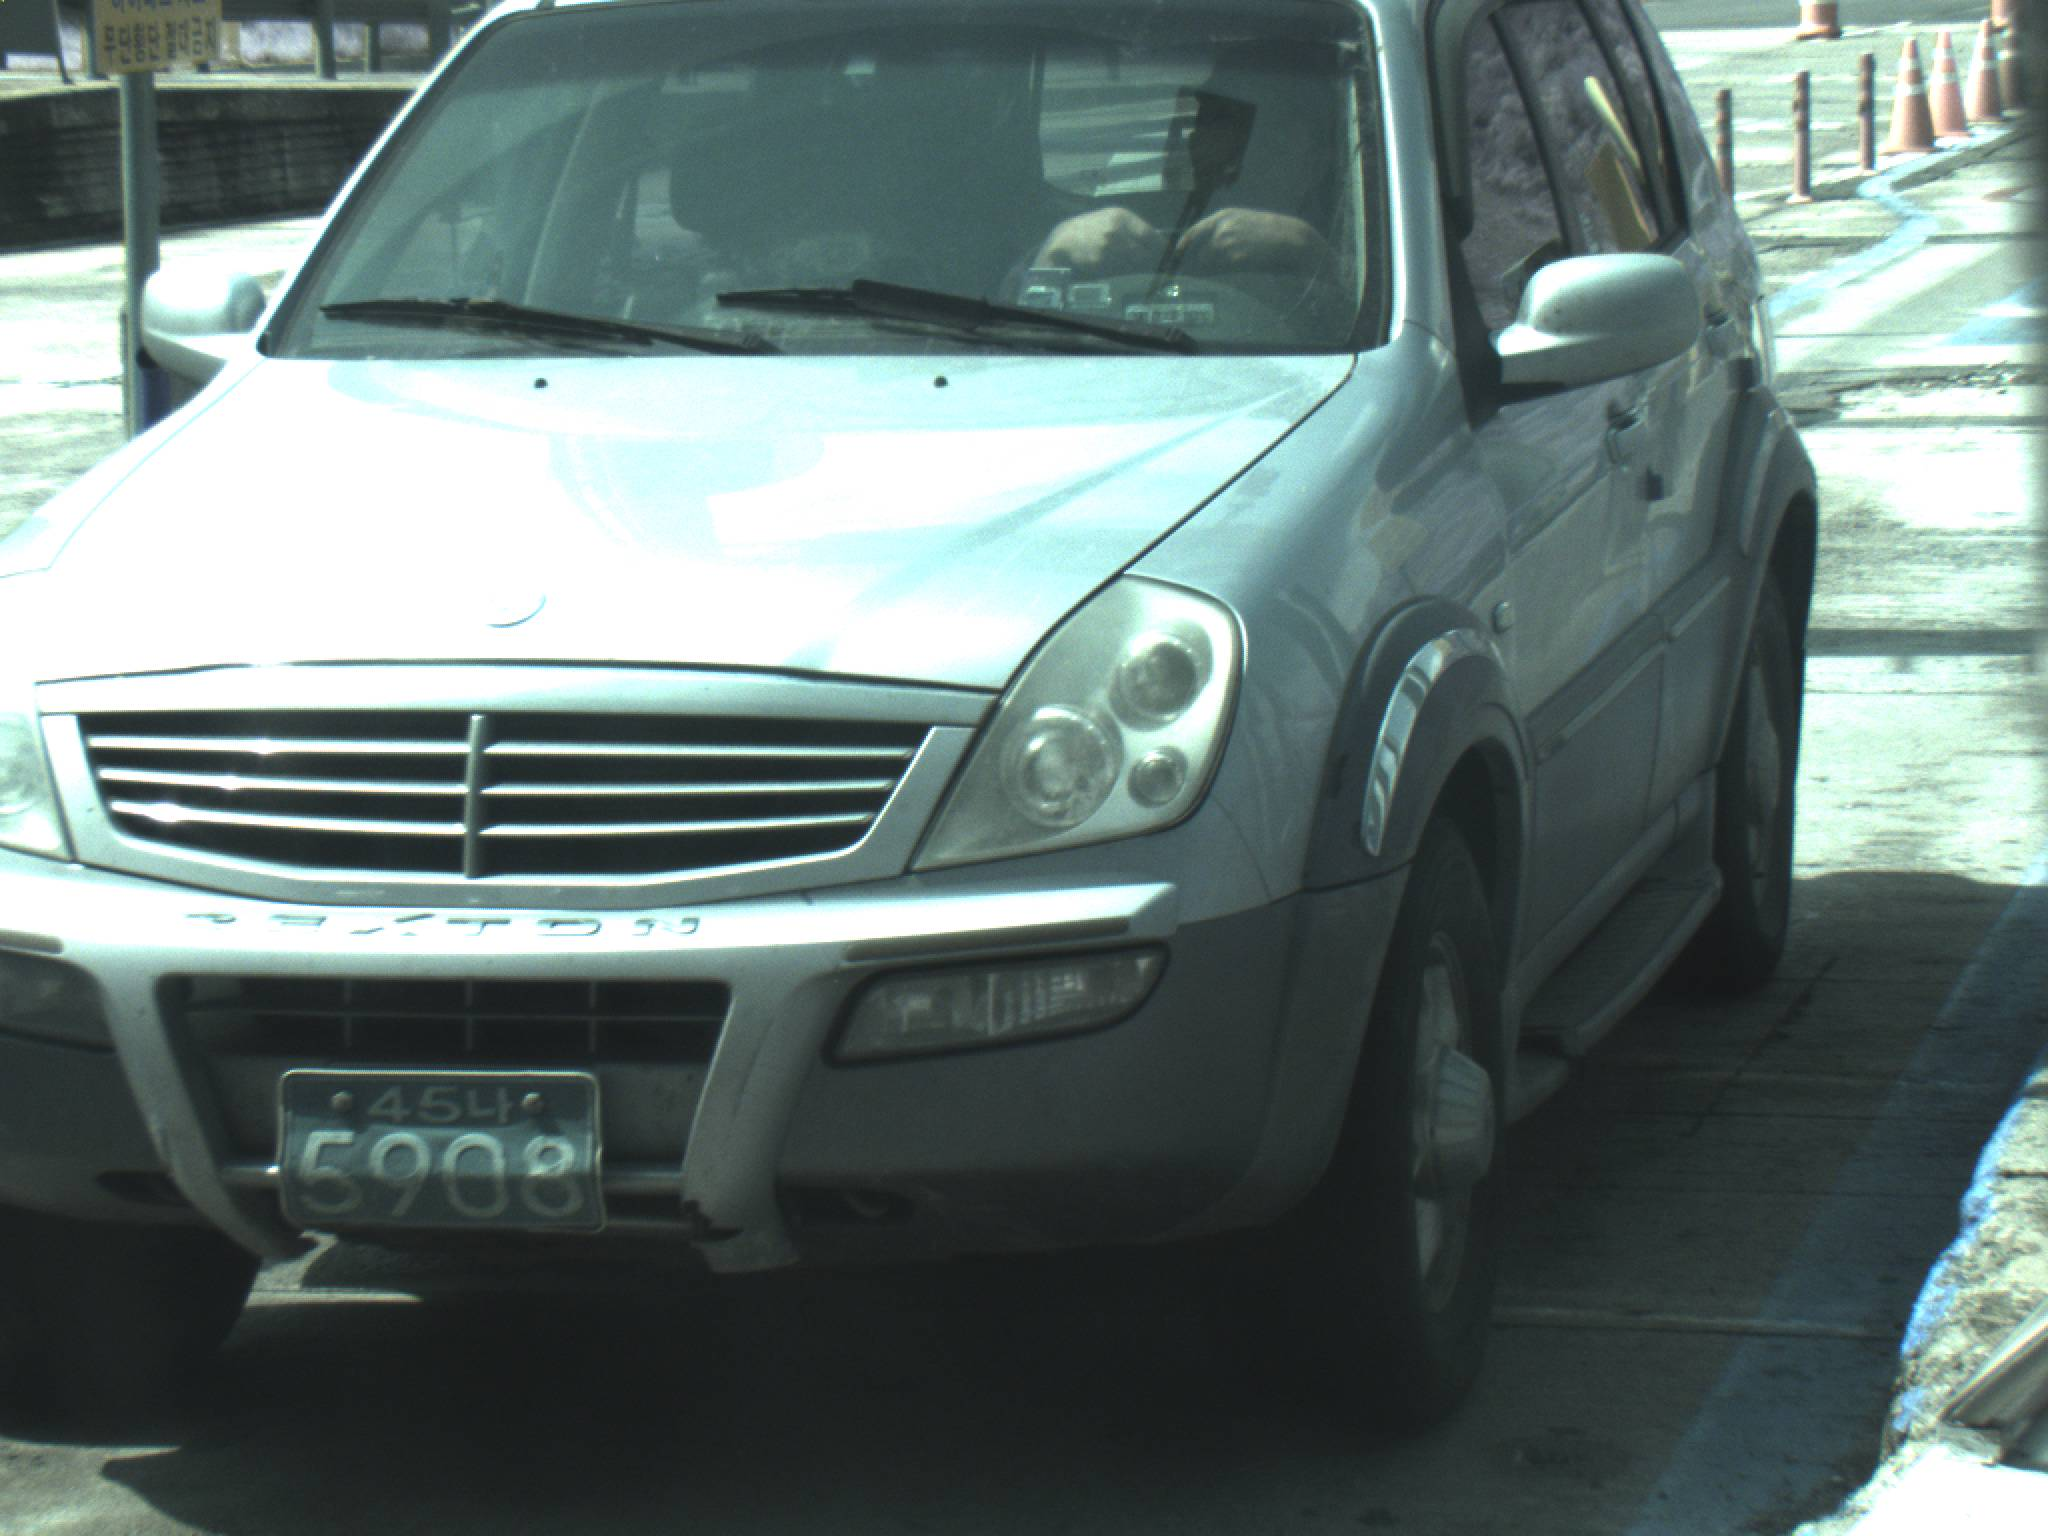car: (1, 1, 1823, 1449)
plate: (272, 1070, 614, 1236)
